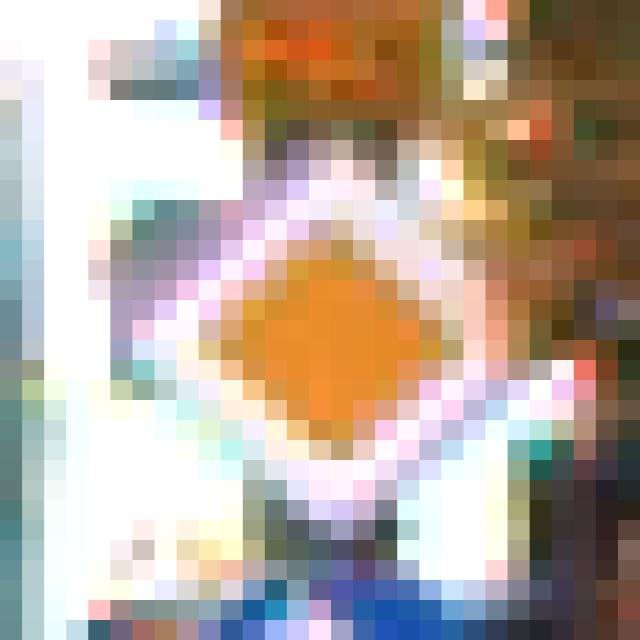Main Road: (111, 121, 531, 541)
